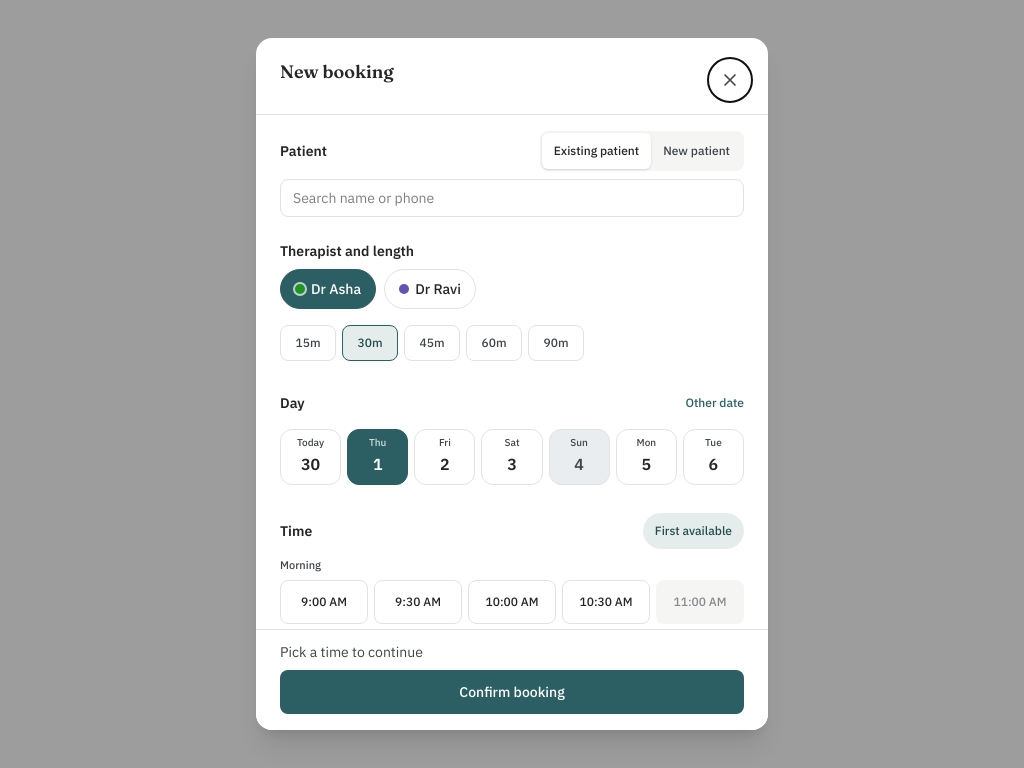
Test case: BookSlotSheet › disables occupied time for the chosen length
Expected: the button "11:00 AM" is disabled, top-left (656, 580), bottom-right (744, 624)
Expected: the button "10:30 AM" is enabled, top-left (562, 580), bottom-right (650, 624)
Step 1. Click the radio button labelled "60m" → (494, 343), box top-left (466, 325), bottom-right (522, 361)
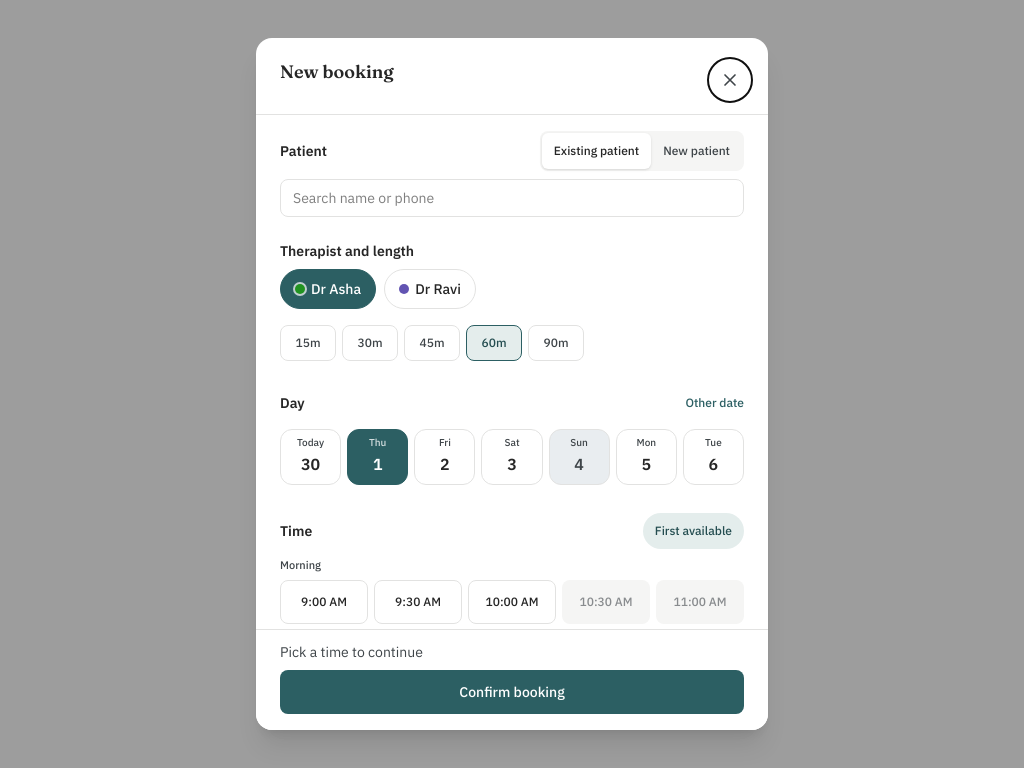
Expected: the button "9:00 AM" is enabled, top-left (280, 580), bottom-right (368, 624)
Result: the button "10:30 AM" is disabled at top-left (562, 580), bottom-right (650, 624)
